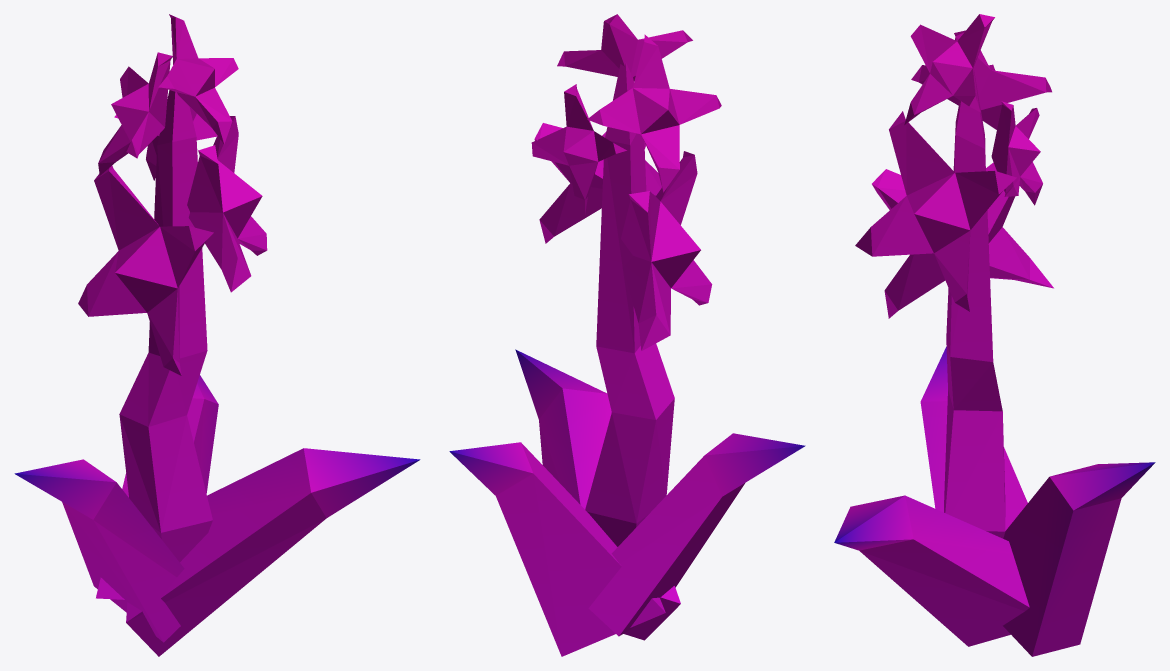
The model's file is SM_Plant_02.gltf.
3 views of the same model, side by side, from view 1: azimuth 30°, elevation 25°; view 2: azimuth 150°, elevation 25°; view 3: azimuth 270°, elevation 25° (orthographic). The views are drawn at different scales.
Visible parts, largest first — view 1: SM_Plant_02; view 2: SM_Plant_02; view 3: SM_Plant_02.
Part boxes in pixels (left/top/right/bottom): SM_Plant_02: left=14, top=14, right=420, bottom=656; SM_Plant_02: left=449, top=14, right=805, bottom=656; SM_Plant_02: left=834, top=14, right=1155, bottom=656.
Size of the model in its own units: 0.5243 by 0.9024 by 0.4086.
